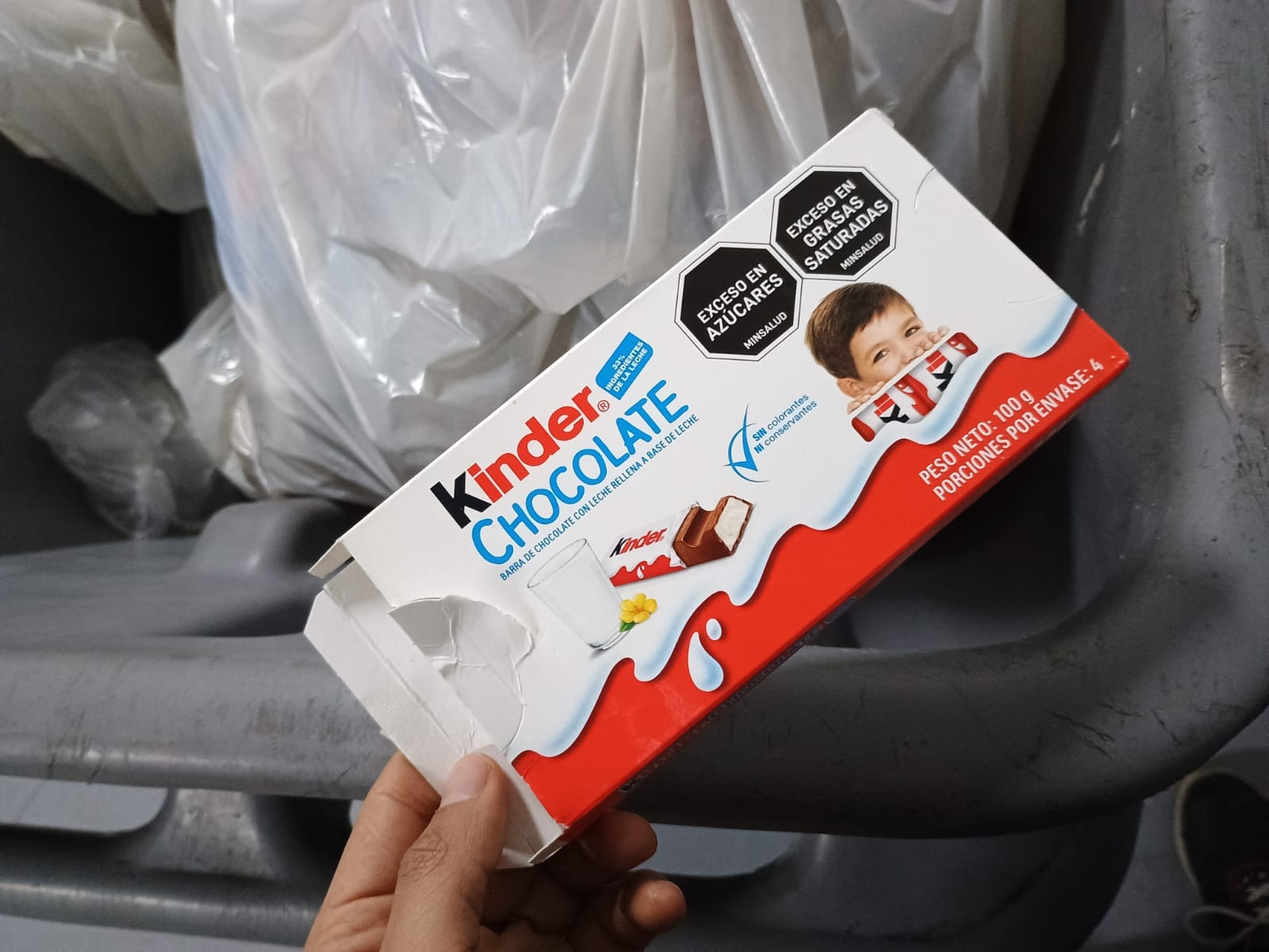Carton: (301, 106, 1135, 874)
